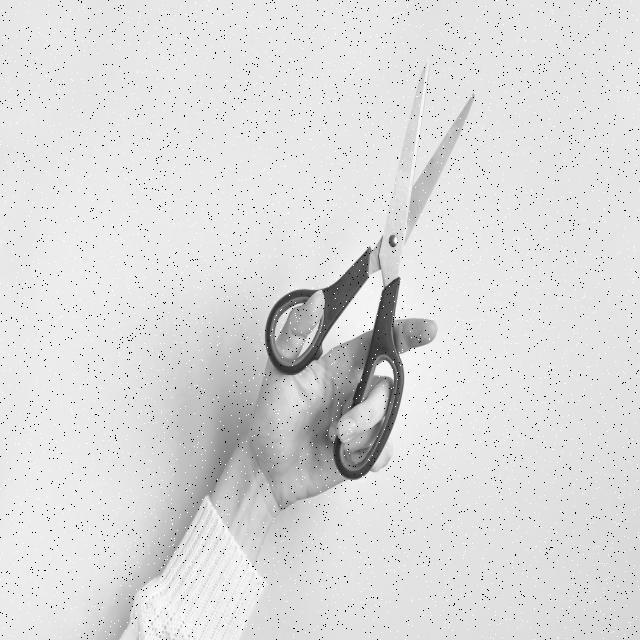scissors: (262, 57, 477, 484)
